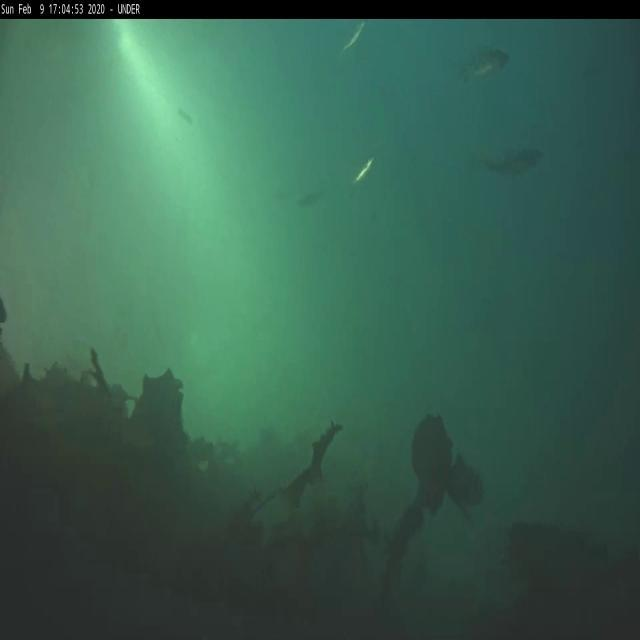fish: (463, 48, 512, 90), (487, 152, 545, 178), (342, 22, 371, 54), (351, 158, 376, 186)
